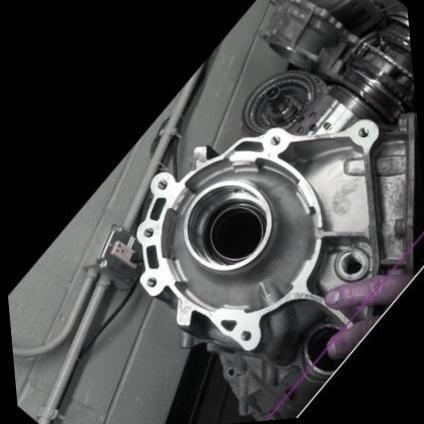hole: (264, 128, 285, 150), (235, 324, 256, 344), (354, 121, 372, 140), (138, 222, 157, 240), (142, 272, 160, 290), (152, 174, 170, 191)
